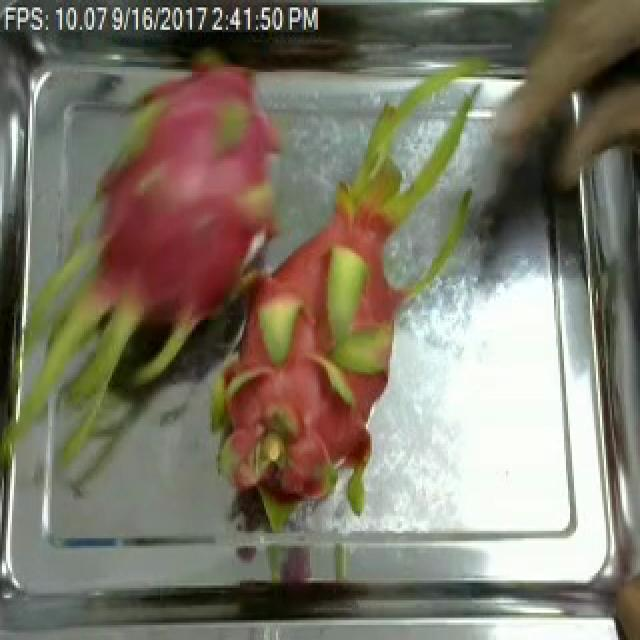Fruit: (516, 0, 640, 109)
